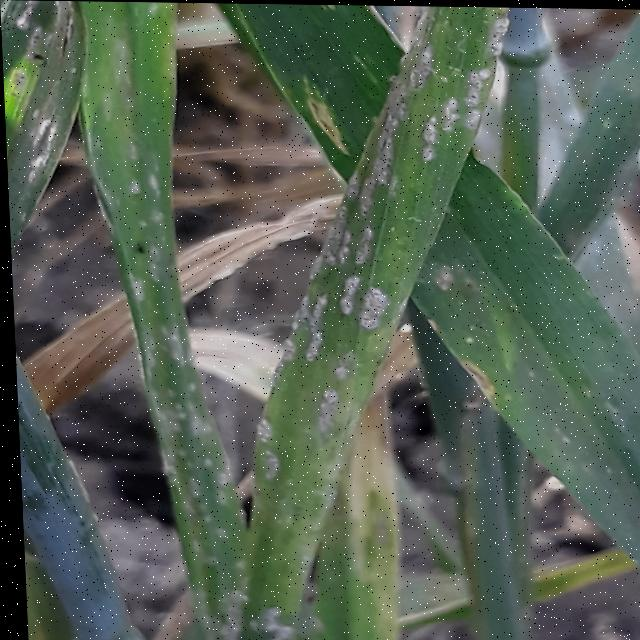powder_mildew: (226, 3, 532, 640), (88, 1, 242, 640), (519, 285, 640, 582), (1, 0, 96, 261), (237, 3, 380, 157)
